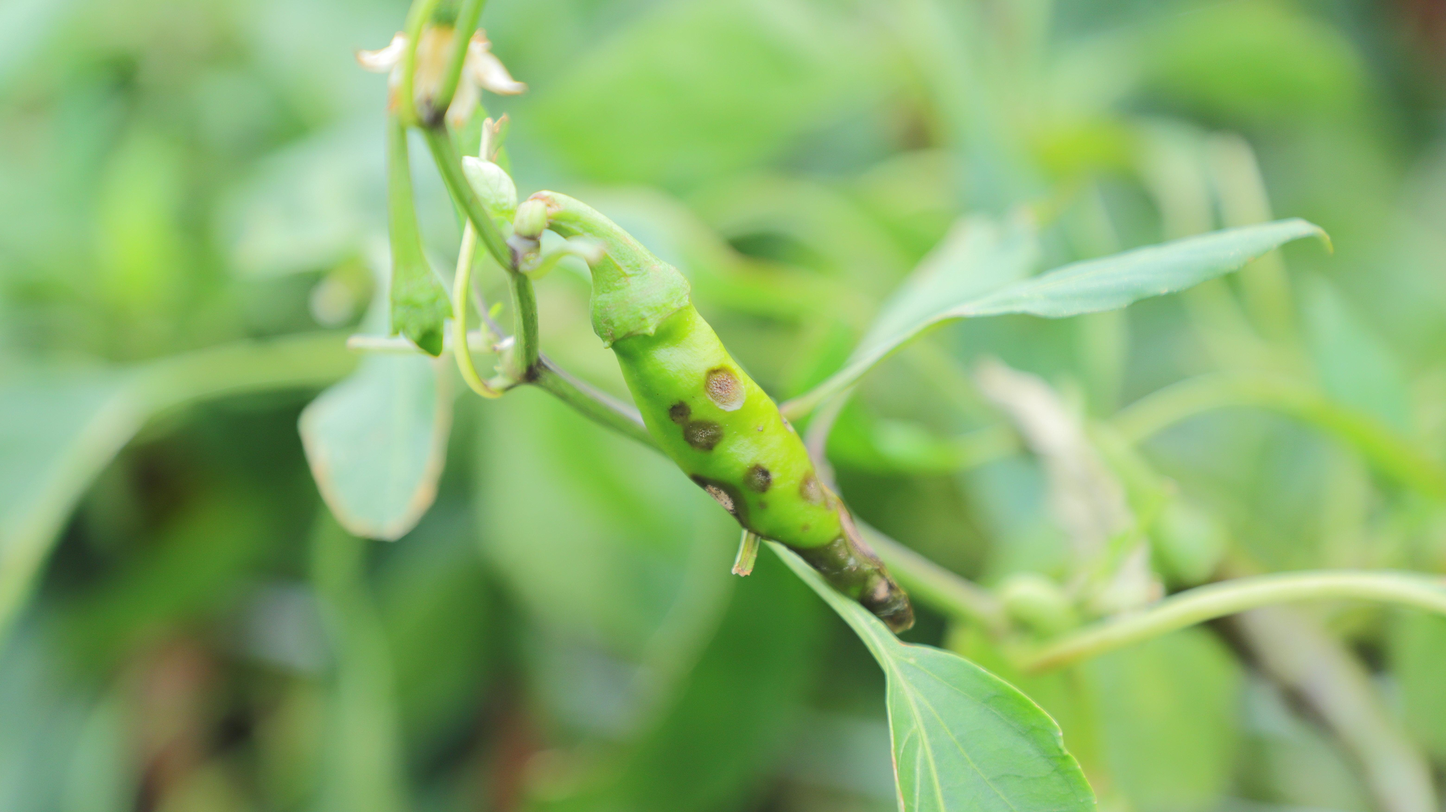Busuk Buah Antraknosa: (502, 185, 919, 637)
